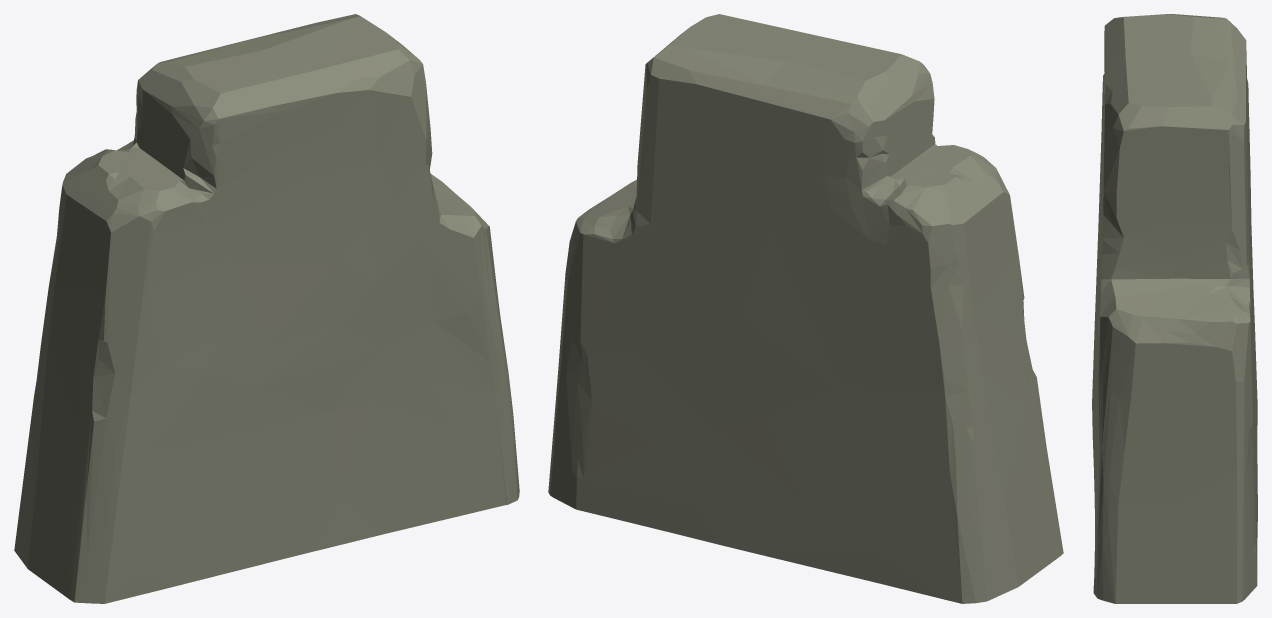
The model's file is Cliff_Desert_01.FBX.
3 renders of one model, left to right at view 1: azimuth 30°, elevation 25°; view 2: azimuth 150°, elevation 25°; view 3: azimuth 270°, elevation 25°, orthographic. The views are drawn at different scales.
Visible parts, largest first — view 1: Cliff_Desert_01; view 2: Cliff_Desert_01; view 3: Cliff_Desert_01.
Boxes of the visible parts, x1,y1,x2,y2 form: Cliff_Desert_01: [14, 14, 519, 603]; Cliff_Desert_01: [548, 14, 1063, 603]; Cliff_Desert_01: [1092, 14, 1257, 603].
Bounding box in the file's own units: 48.5 × 48.11 × 16.12.
Materials: 1 (1 with a texture image).
